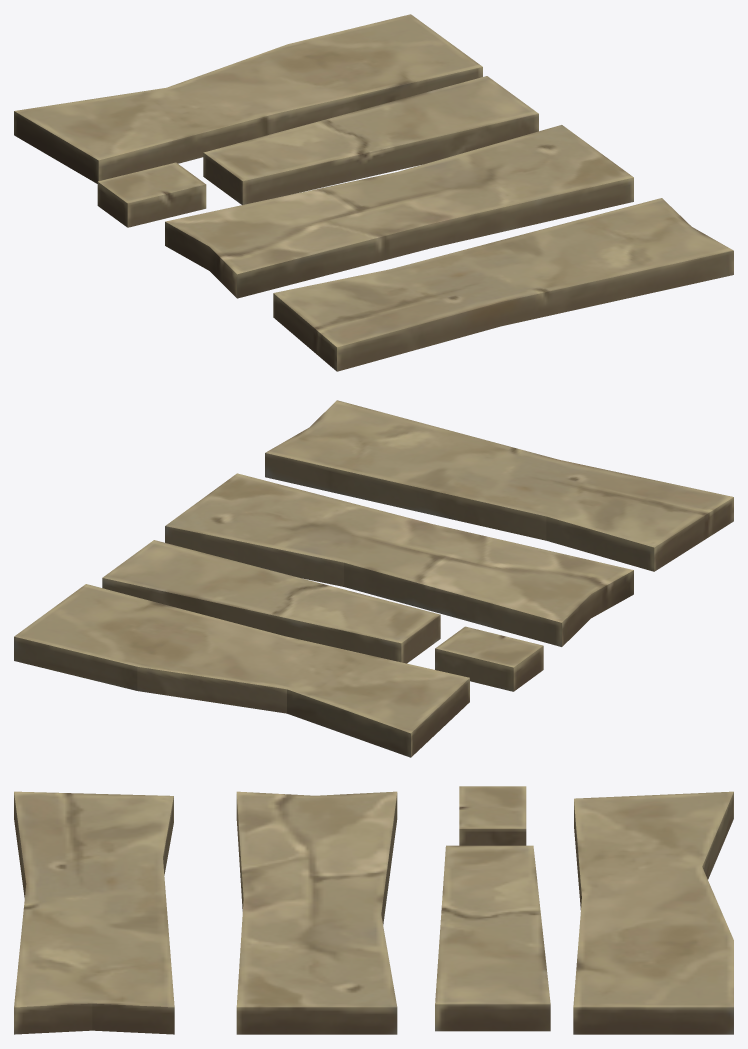
The model's file is Stage_CaoYuan_ShiBanLu.FBX.
The picture shows the model from 3 angles, top to bottom: view 1: azimuth 30°, elevation 25°; view 2: azimuth 150°, elevation 25°; view 3: azimuth 270°, elevation 25°; orthographic projection. The views are drawn at different scales.
Visible parts, largest first — view 1: Stage_CaoYuan_ShiBanLu; view 2: Stage_CaoYuan_ShiBanLu; view 3: Stage_CaoYuan_ShiBanLu.
Part boxes in pixels (x1,y1,x2,y2): Stage_CaoYuan_ShiBanLu: (14,14,733,371); Stage_CaoYuan_ShiBanLu: (14,400,733,757); Stage_CaoYuan_ShiBanLu: (14,786,733,1034).
Bounding box in the file's own units: 106 × 6.03 × 145.
